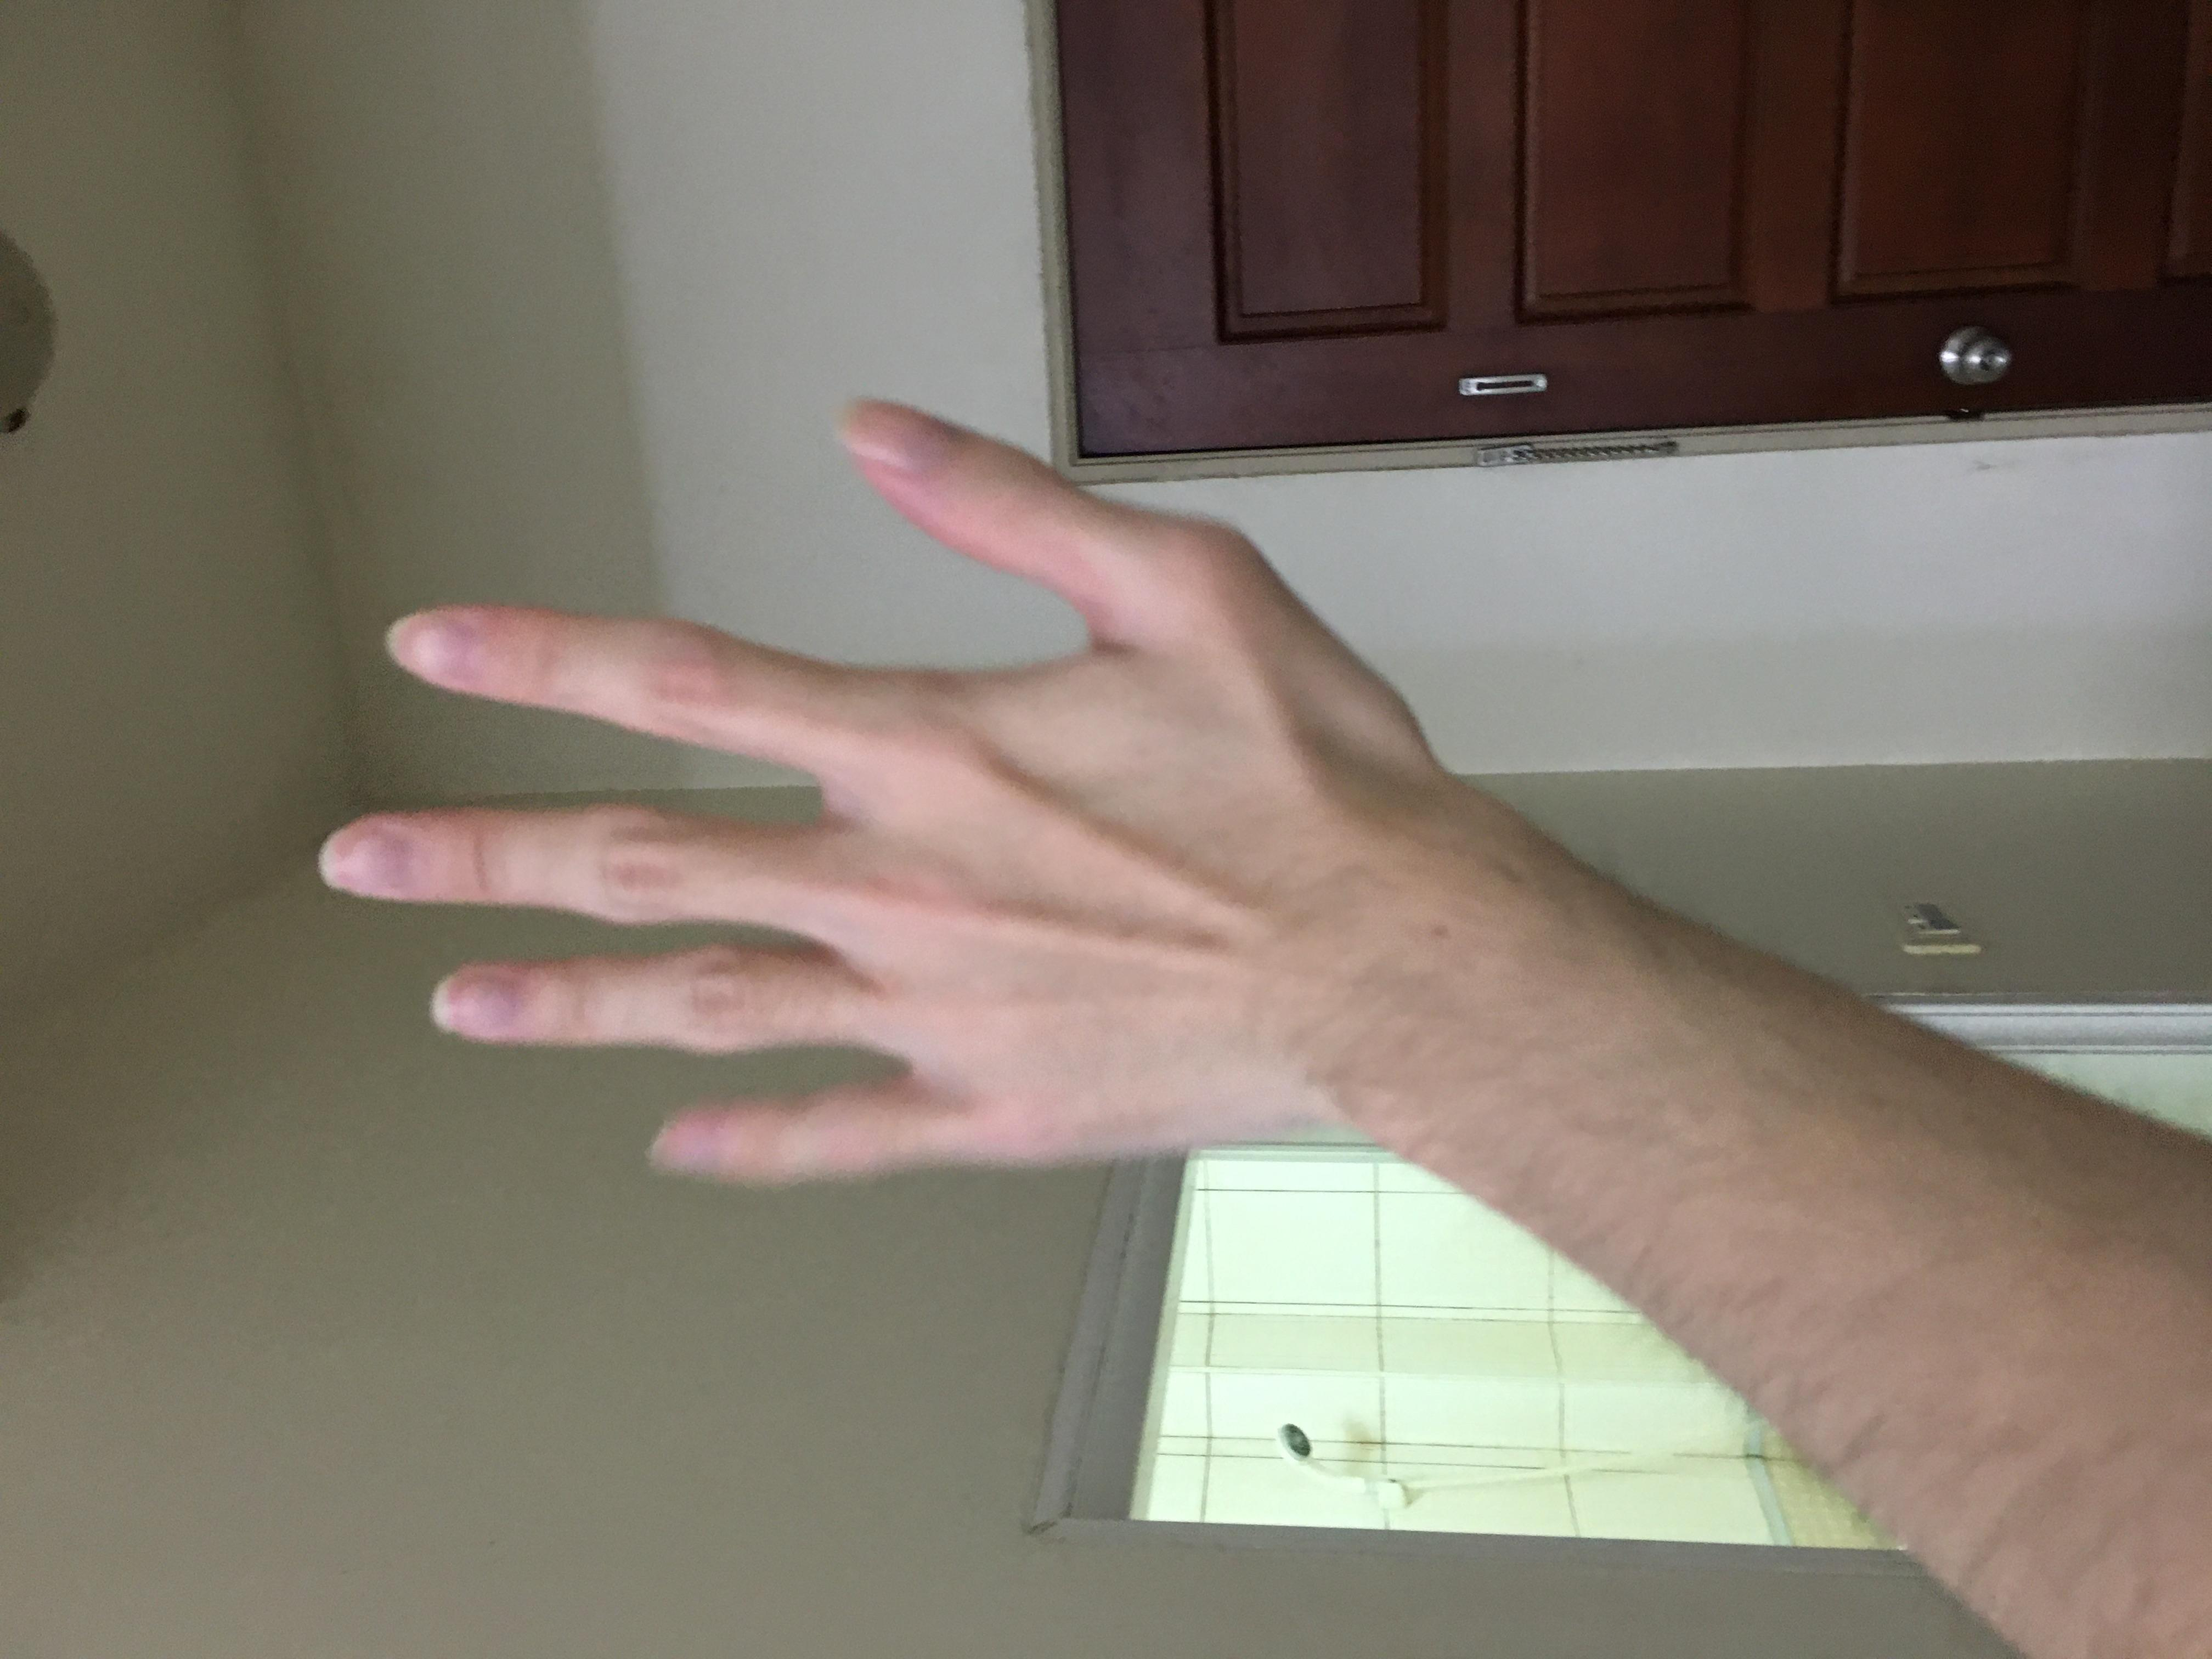hand: (631, 227, 1695, 1042)
